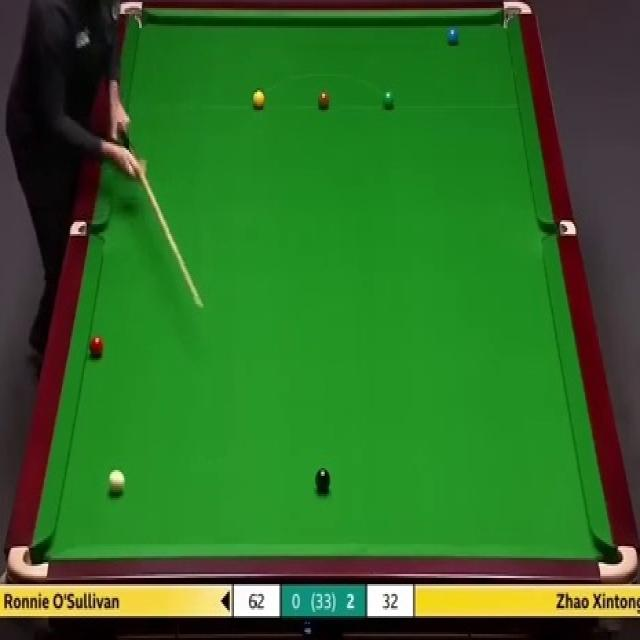black-ball: (314, 467, 331, 493)
blue-ball: (446, 27, 459, 44)
brown-ball: (316, 88, 331, 110)
green-ball: (380, 90, 395, 110)
red-ball: (88, 336, 105, 358)
white-ball: (107, 467, 125, 496)
yellow-ball: (252, 88, 265, 109)
